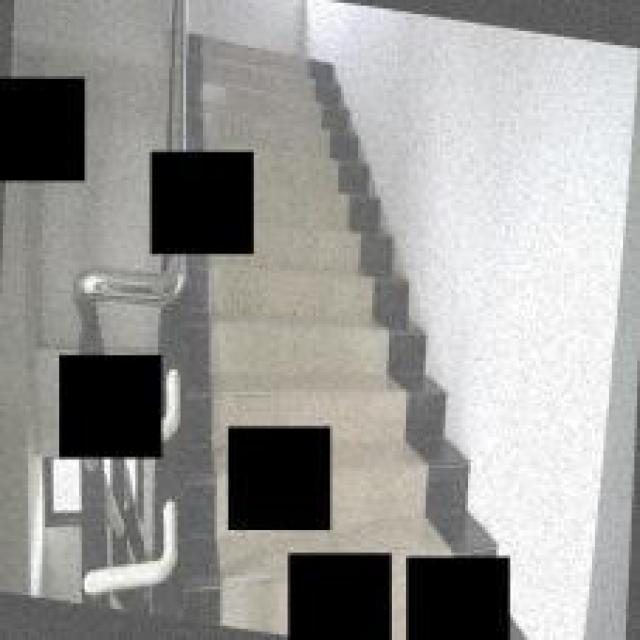upstair: (187, 263, 444, 413), (190, 32, 367, 145)
